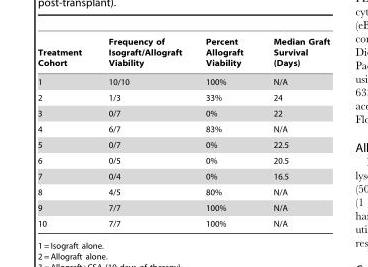table: (37, 37, 329, 227)
table column: (94, 37, 193, 227), (257, 37, 329, 227), (193, 37, 257, 227), (37, 37, 94, 227)
table column header: (37, 37, 329, 72)
table row: (37, 37, 329, 72), (37, 72, 329, 89), (37, 89, 329, 105), (37, 105, 329, 121), (37, 136, 329, 152), (37, 152, 329, 168), (37, 168, 329, 184), (37, 199, 329, 215), (37, 121, 329, 136), (37, 184, 329, 199), (37, 215, 329, 227)
